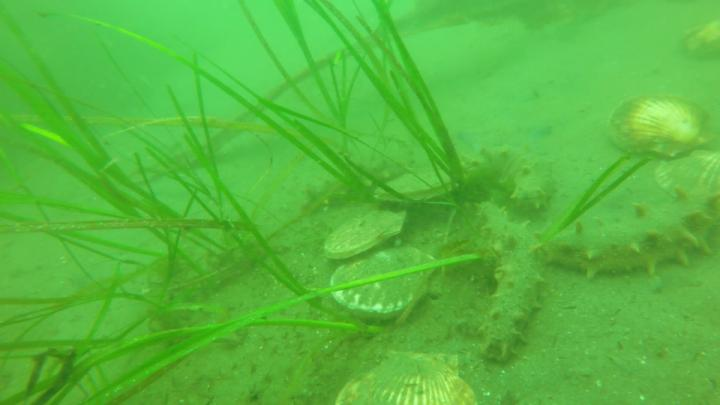holothurian: (550, 188, 720, 279), (474, 200, 549, 364), (466, 138, 564, 216), (300, 149, 415, 211)
scallop: (326, 348, 486, 405), (331, 246, 441, 322), (606, 89, 716, 164), (321, 205, 411, 263), (373, 159, 473, 208), (653, 150, 720, 207), (682, 14, 720, 68)
waterweeds: (1, 1, 485, 405)
